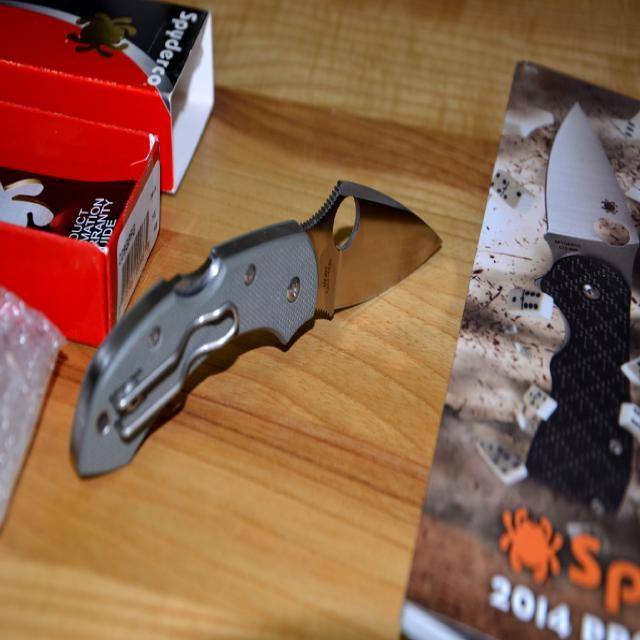Knife: (71, 181, 440, 476), (526, 104, 639, 512)
